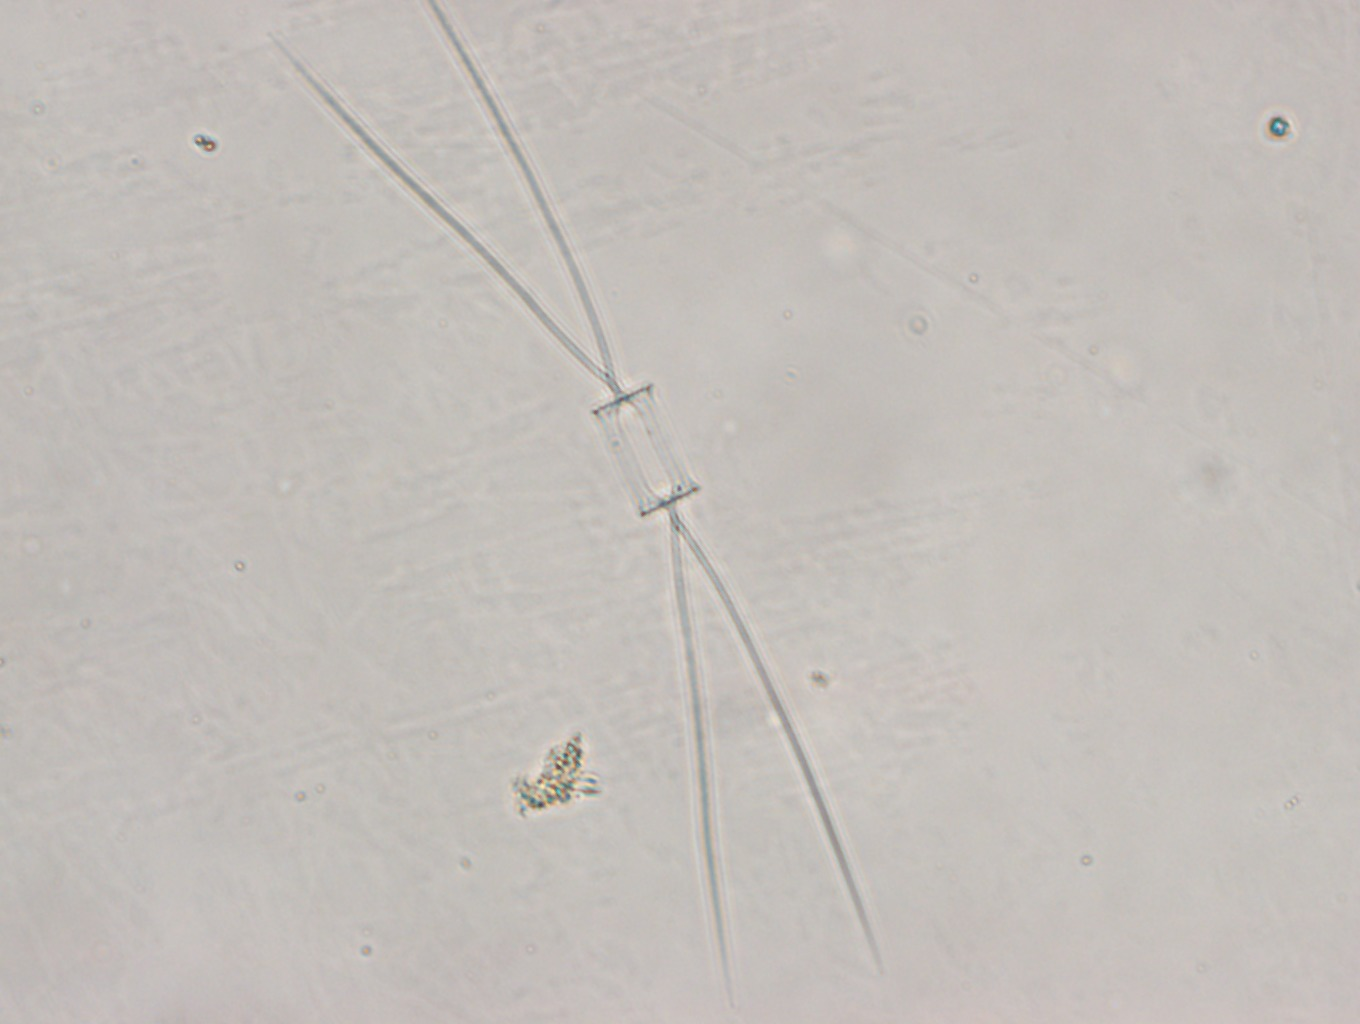chaetoceros: (267, 1, 886, 1005)
